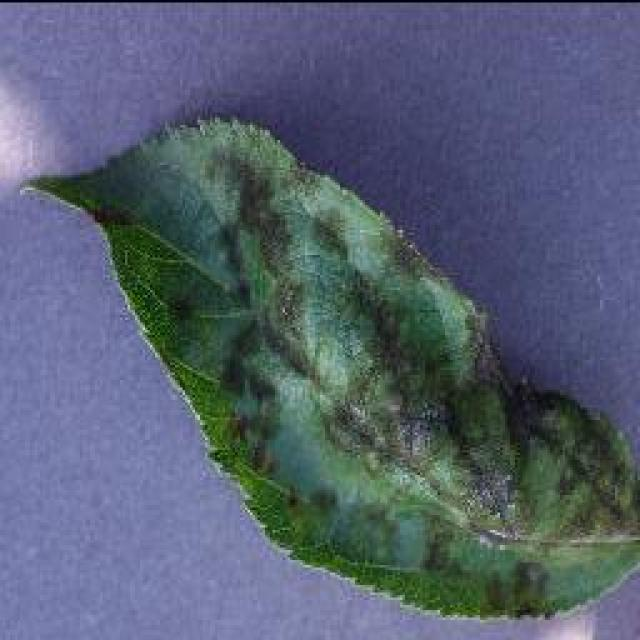apple scab disease: (18, 110, 638, 622)
